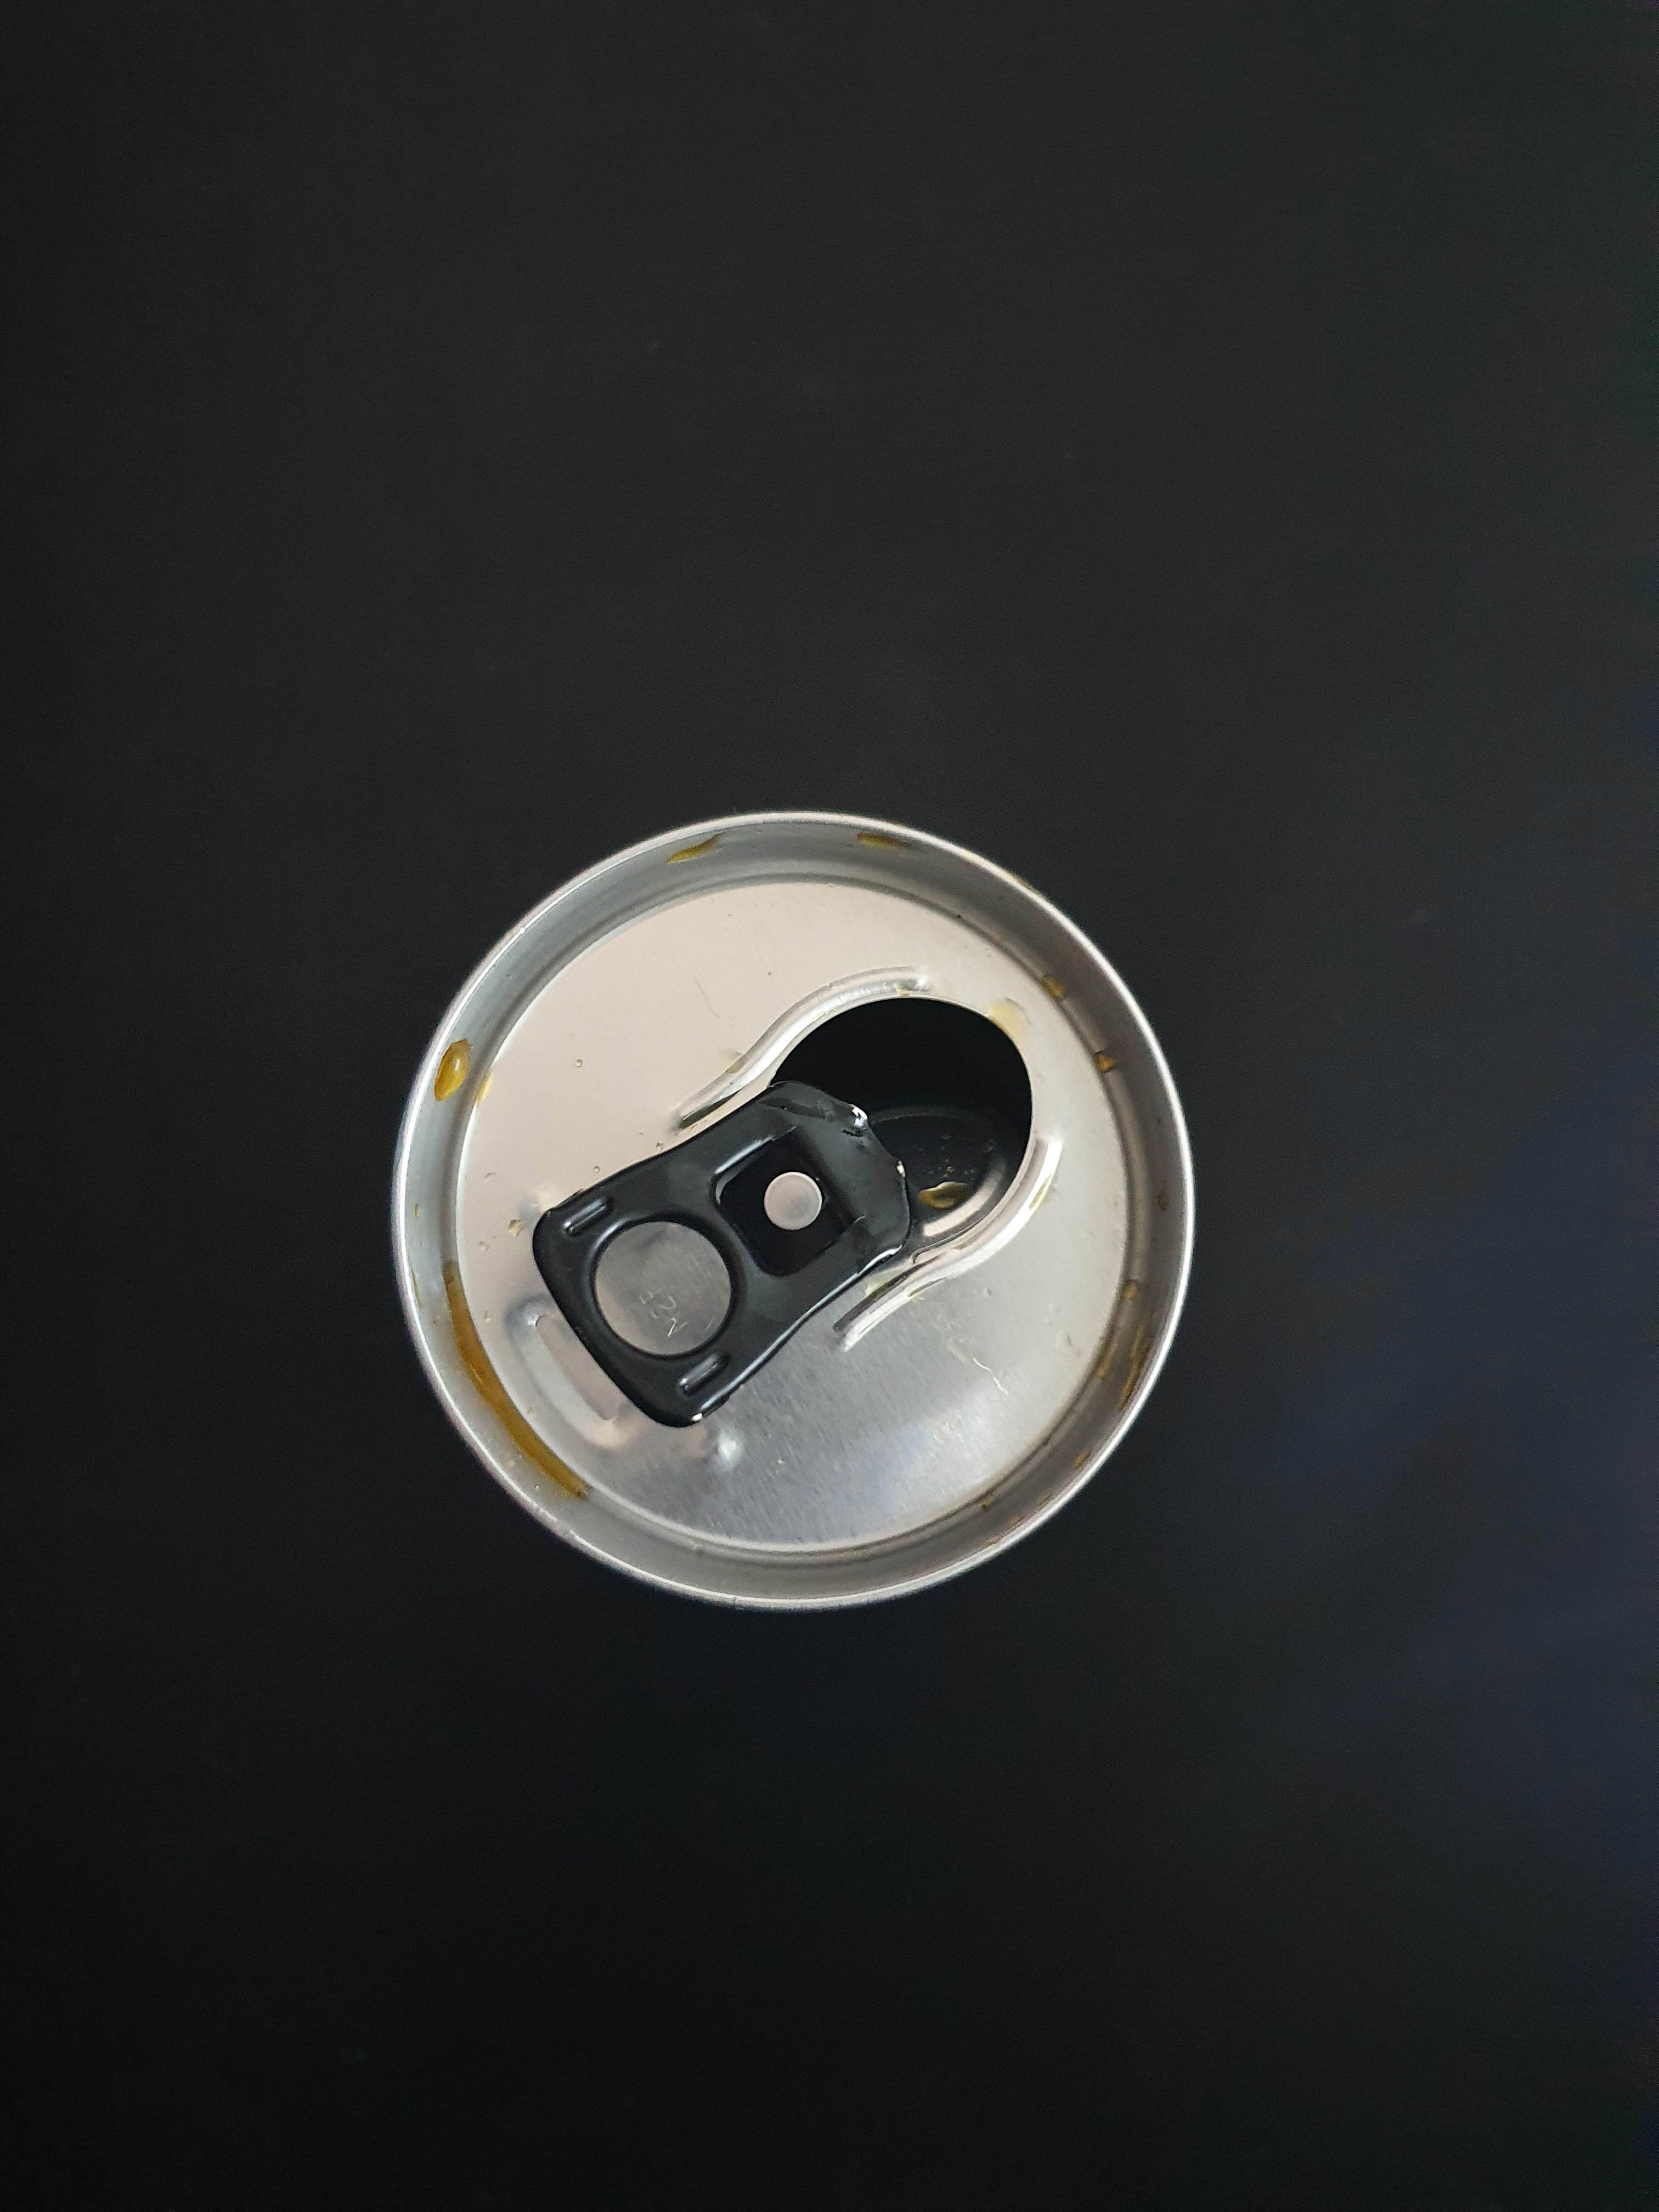metal: (338, 772, 1253, 1649)
